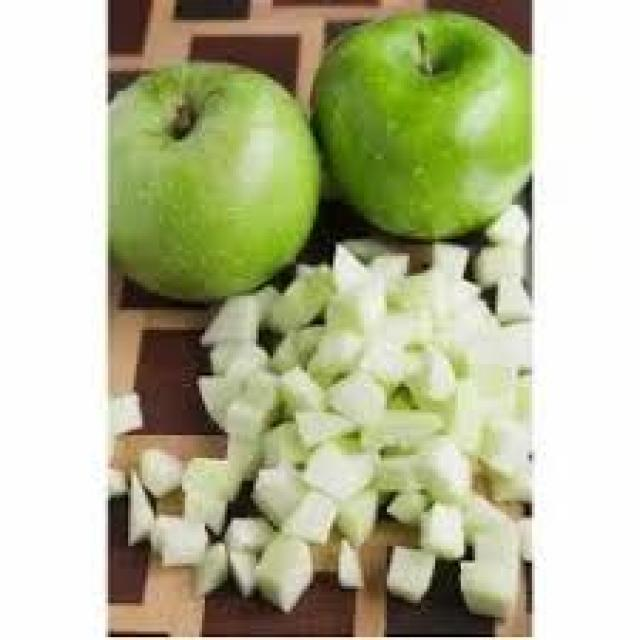Apple: (107, 64, 320, 302), (320, 9, 531, 231)
